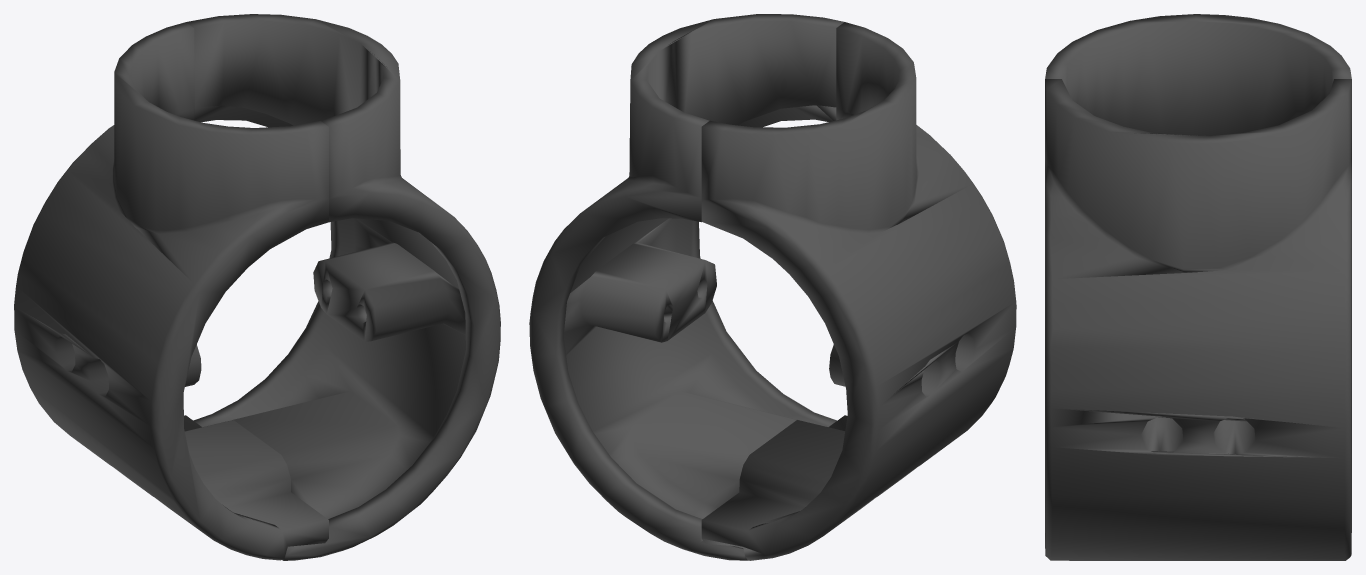
The model's file is wrist_flex.dae.
3 renders of one model, left to right at view 1: azimuth 30°, elevation 25°; view 2: azimuth 150°, elevation 25°; view 3: azimuth 270°, elevation 25°, orthographic. The views are drawn at different scales.
Parts seen in each view (by area): view 1: Wrist_Flex; view 2: Wrist_Flex; view 3: Wrist_Flex.
Boxes of the visible parts, x1,y1,x2,y2 form: Wrist_Flex: (14,14,500,560); Wrist_Flex: (529,14,1016,560); Wrist_Flex: (1045,14,1351,560).
Size of the model in its own units: 0.048 by 0.034 by 0.0565.
1 material, 1 textured.
